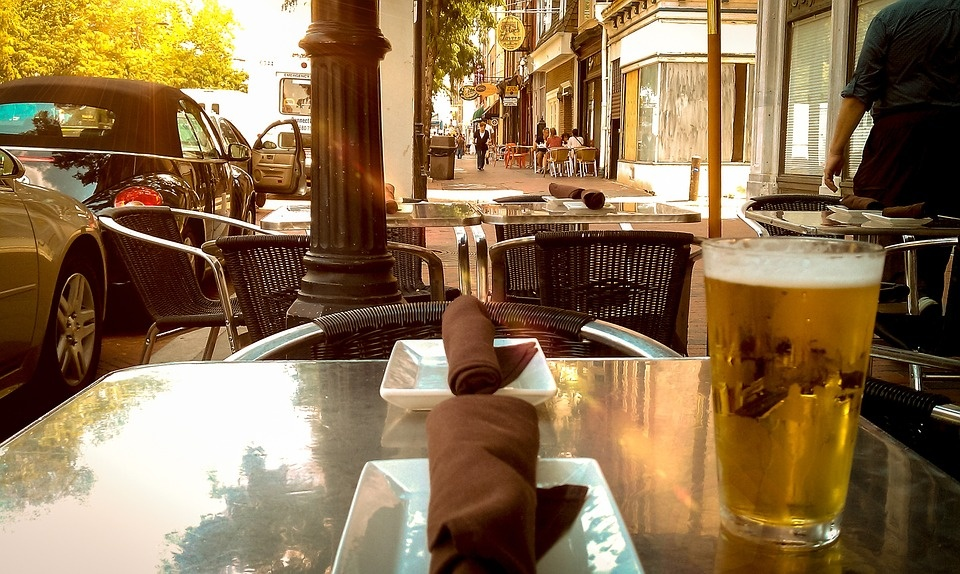glassBeer: (702, 238, 884, 546)
